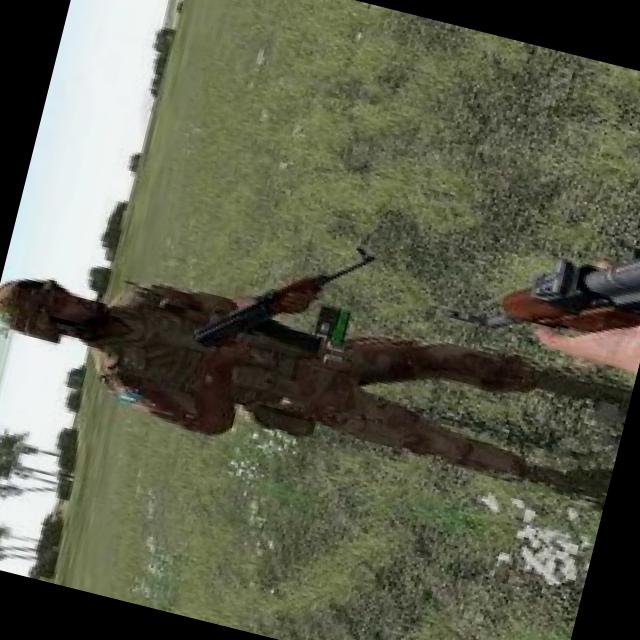long weapon: (190, 196, 398, 400)
